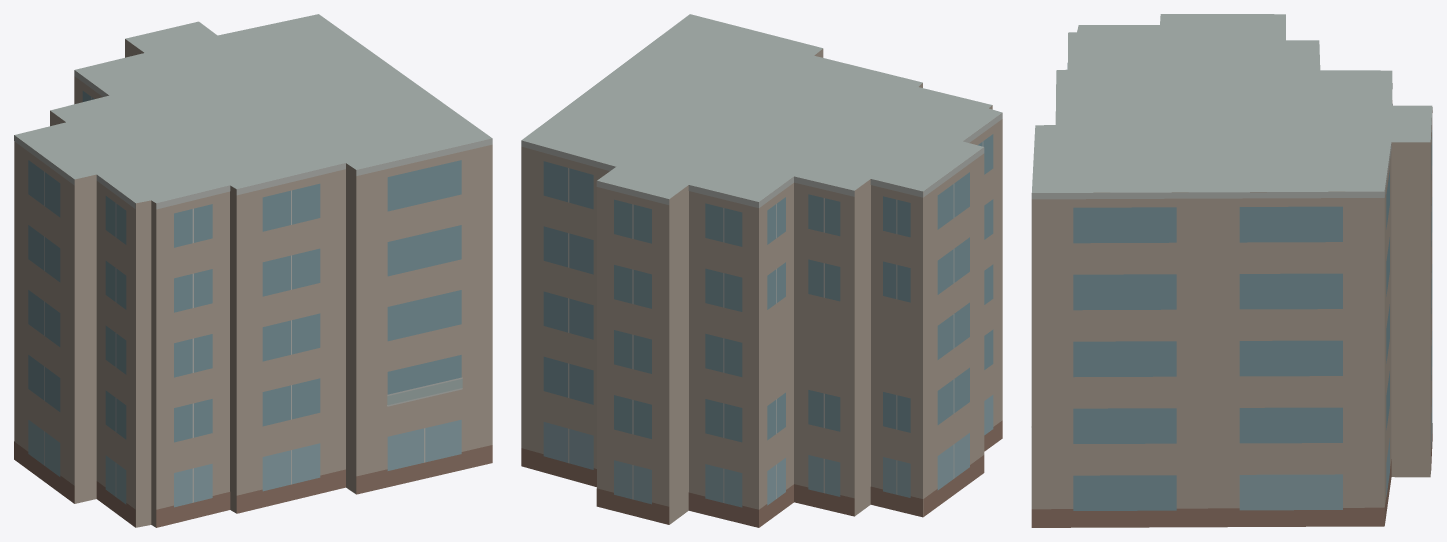
The model's file is survey-upis-32494886.glb.
3 renders of one model, left to right at view 1: azimuth 30°, elevation 25°; view 2: azimuth 150°, elevation 25°; view 3: azimuth 270°, elevation 25°, orthographic. The views are drawn at different scales.
Parts seen in each view (by area): view 1: survey-upis-32494886.tmp; view 2: survey-upis-32494886.tmp; view 3: survey-upis-32494886.tmp.
Boxes of the visible parts, x1=… form: survey-upis-32494886.tmp: x1=14, y1=14, x2=492, y2=527; survey-upis-32494886.tmp: x1=521, y1=14, x2=1002, y2=527; survey-upis-32494886.tmp: x1=1031, y1=14, x2=1432, y2=527.
Size of the model in its own units: 14.8 by 12.9 by 14.01.
